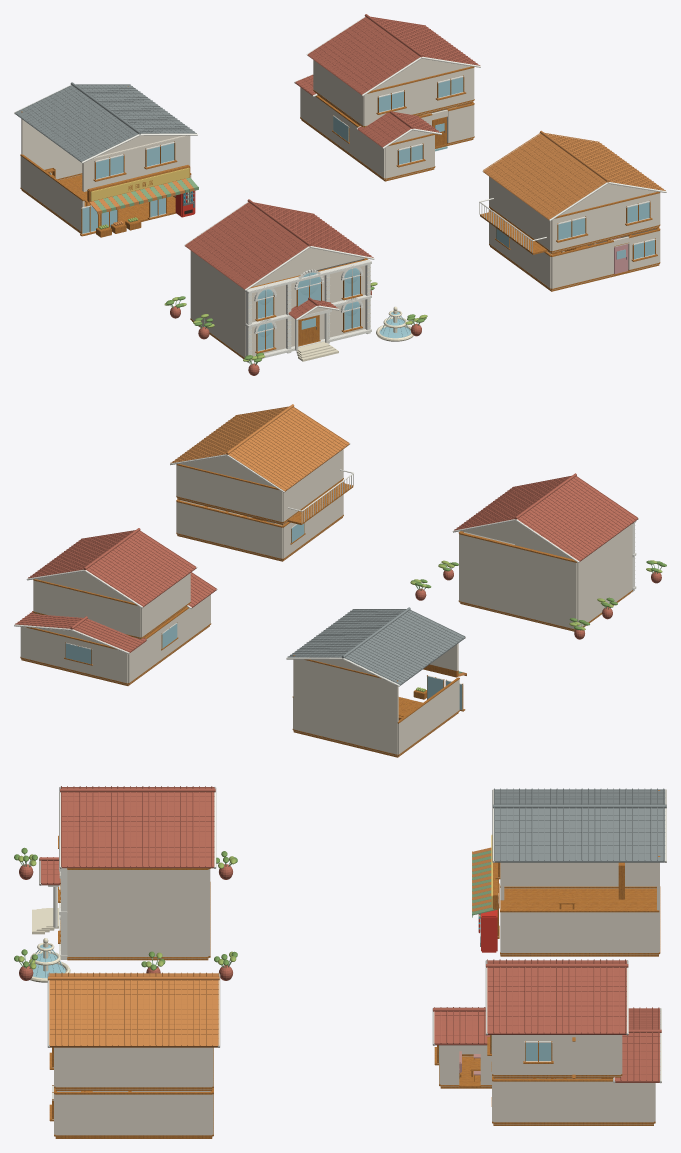
The model's file is neighborhood-v11.glb.
3 views of the same model, one above another, from view 1: azimuth 30°, elevation 25°; view 2: azimuth 150°, elevation 25°; view 3: azimuth 270°, elevation 25° (orthographic). The views are drawn at different scales.
Parts seen in each view (by area): view 1: v11_suneo, v11_gian, v11_home_roof, v11_shizuka_roof, v11_home_lower, v11_shizuka_upper_front, v11_shizuka_front, v11_home_upper_front, v11_shizuka_upper, v11_home_front, v11_shizuka_lower, v11_home_upper (+2 smaller); view 2: v11_suneo, v11_gian, v11_home_roof, v11_shizuka_roof, v11_home_lower, v11_shizuka_upper, v11_shizuka_lower, v11_home_upper, v11_shizuka_balcony, v11_home_front; view 3: v11_suneo, v11_gian, v11_home_roof, v11_shizuka_roof, v11_home_lower, v11_shizuka_lower, v11_shizuka_upper, v11_home_upper, v11_home_upper_front.
Boxes of the visible parts, x1,y1,x2,y2 form: v11_suneo: (164, 199, 427, 375); v11_gian: (14, 82, 198, 237); v11_home_roof: (294, 14, 480, 148); v11_shizuka_roof: (482, 130, 666, 221); v11_home_lower: (300, 87, 474, 181); v11_shizuka_upper_front: (551, 191, 659, 252); v11_shizuka_front: (495, 228, 659, 290); v11_home_upper_front: (364, 66, 474, 127); v11_shizuka_upper: (489, 176, 660, 253); v11_home_front: (332, 103, 474, 167); v11_shizuka_lower: (489, 210, 660, 291); v11_home_upper: (313, 60, 474, 127); v11_suneo: (410, 473, 666, 639); v11_gian: (286, 607, 466, 757); v11_home_roof: (14, 528, 217, 654); v11_shizuka_roof: (170, 404, 350, 492); v11_home_lower: (20, 594, 211, 685); v11_shizuka_upper: (176, 449, 343, 524); v11_shizuka_lower: (176, 482, 343, 561); v11_home_upper: (33, 573, 190, 639); v11_shizuka_balcony: (287, 469, 354, 524); v11_home_front: (64, 622, 178, 665); v11_suneo: (14, 786, 237, 982); v11_gian: (472, 788, 666, 956); v11_home_roof: (432, 959, 661, 1083); v11_shizuka_roof: (47, 972, 220, 1047); v11_home_lower: (439, 1045, 655, 1125); v11_shizuka_lower: (55, 1088, 213, 1138); v11_shizuka_upper: (55, 1047, 213, 1090); v11_home_upper: (493, 1035, 622, 1078); v11_home_upper_front: (487, 1035, 553, 1076).
Size of the model in its own units: 32.41 by 7.58 by 33.32.
Materials: 25 (3 with a texture image).
